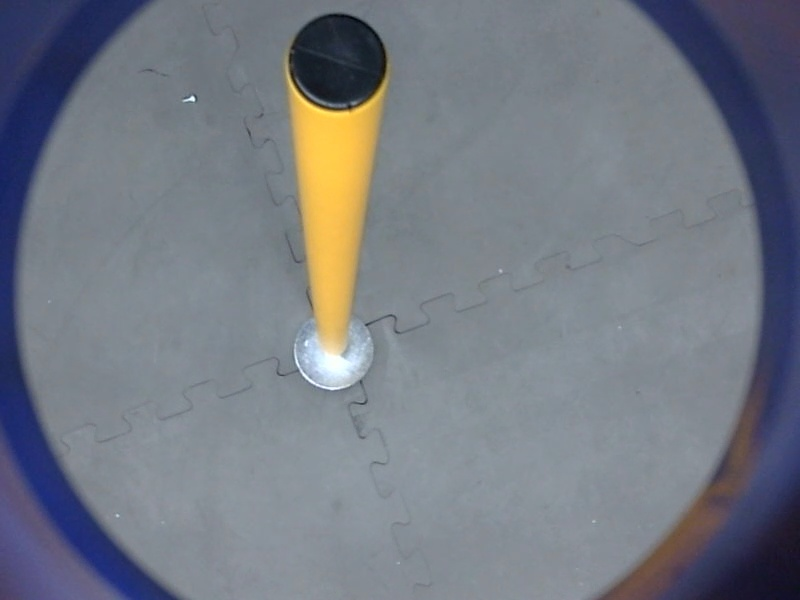tip: (276, 7, 396, 116)
